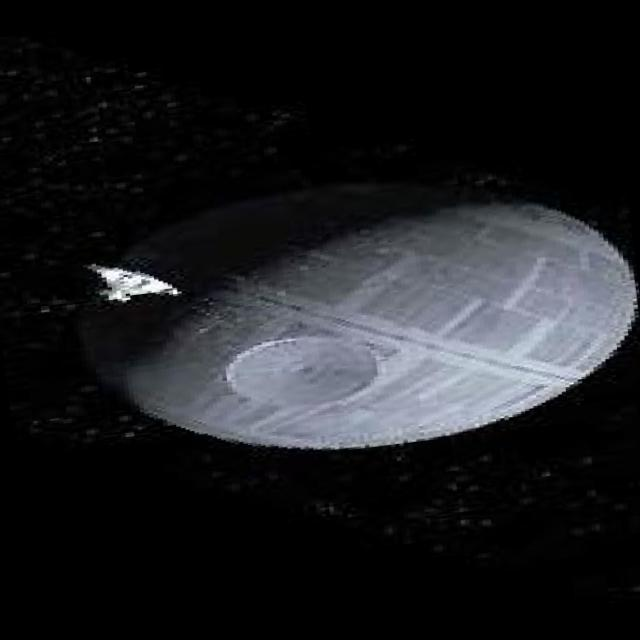Death Star: (79, 148, 640, 502)
